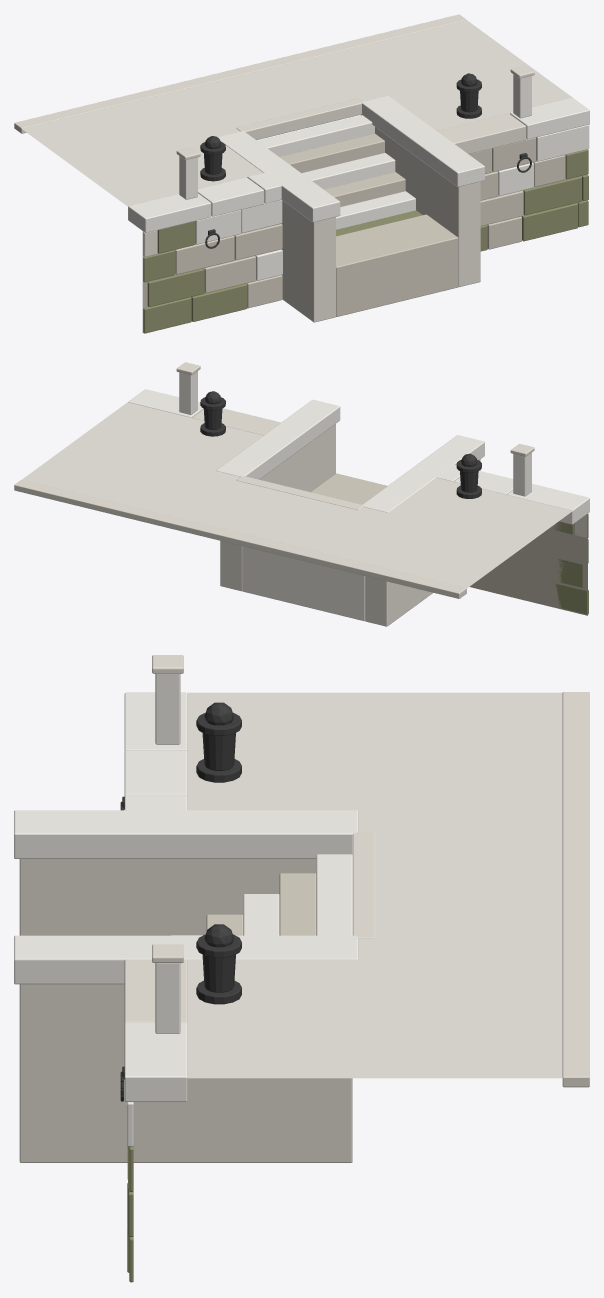
The model's file is QuaySteps.fbx.
3 views of the same model, one above another, from view 1: azimuth 30°, elevation 25°; view 2: azimuth 150°, elevation 25°; view 3: azimuth 270°, elevation 25° (orthographic). The views are drawn at different scales.
Parts seen in each view (by area): view 1: QuaySteps; view 2: QuaySteps; view 3: QuaySteps.
Boxes of the visible parts, left/top/right/bottom form: QuaySteps: left=14, top=14, right=589, bottom=333; QuaySteps: left=14, top=362, right=589, bottom=626; QuaySteps: left=14, top=655, right=589, bottom=1282.
Bounding box in the file's own units: 8 × 2.76 × 5.05.
